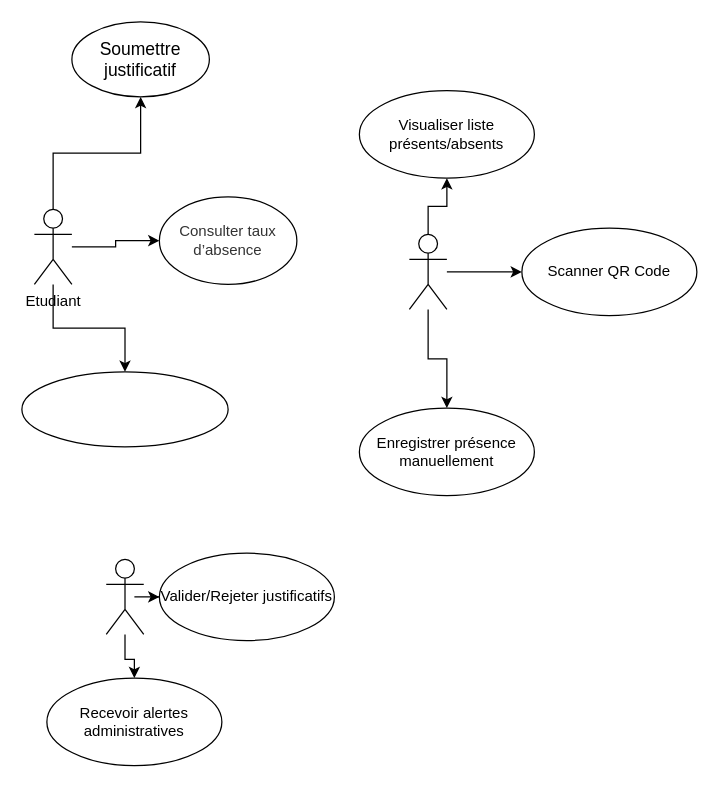
Image size: 719x788. Some labels were removed from this diagram. The box of each missing label's shape, as (x1, y1, x2, y2) in pixels:
Générer QR Code: (21, 371, 228, 447)
Professeur: (408, 233, 447, 309)
Superviseur: (105, 558, 144, 634)
